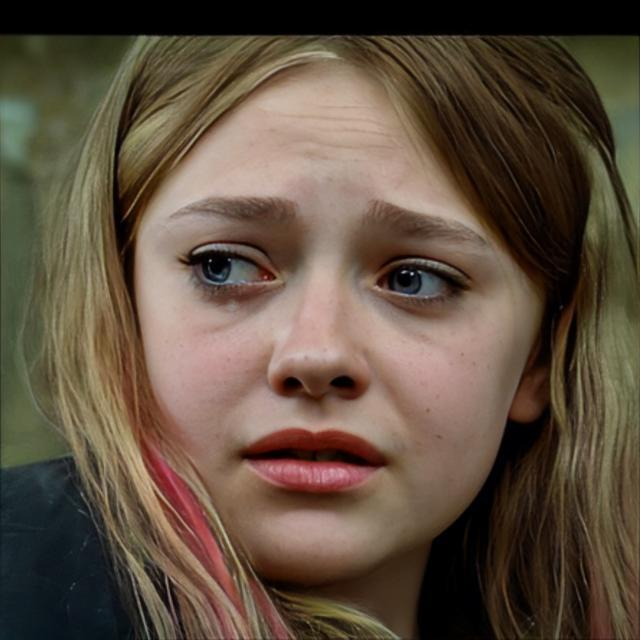sad: (130, 55, 549, 577)
